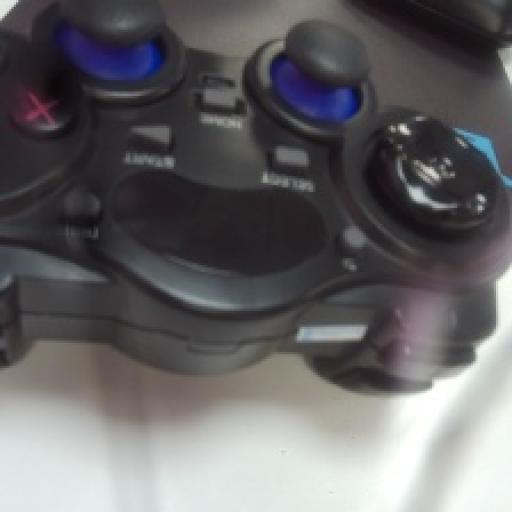game pad: (0, 0, 510, 391)
